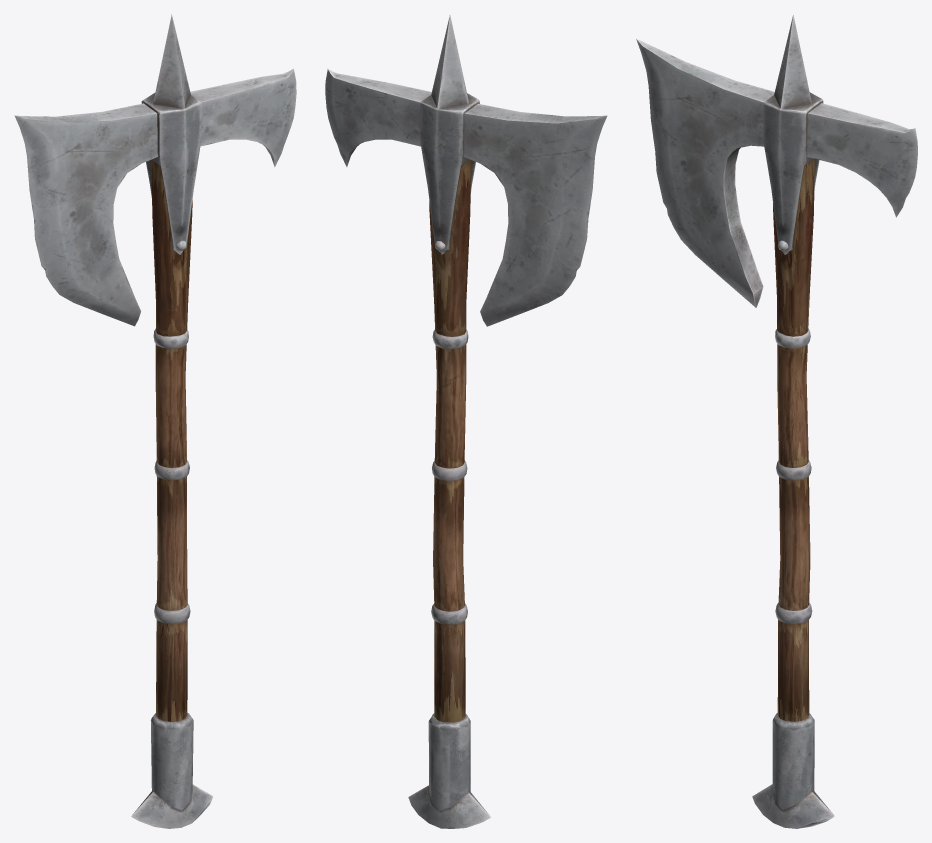
3 views of the same model, side by side, from view 1: azimuth 30°, elevation 25°; view 2: azimuth 150°, elevation 25°; view 3: azimuth 330°, elevation 25° (orthographic).
Parts seen in each view (by area): view 1: SM_Greataxe_Iron_2H_01_LOD0; view 2: SM_Greataxe_Iron_2H_01_LOD0; view 3: SM_Greataxe_Iron_2H_01_LOD0.
Part boxes in pixels (x1=…): SM_Greataxe_Iron_2H_01_LOD0: x1=14, y1=14, x2=296, y2=828; SM_Greataxe_Iron_2H_01_LOD0: x1=325, y1=14, x2=607, y2=828; SM_Greataxe_Iron_2H_01_LOD0: x1=636, y1=15, x2=917, y2=828.
Size of the model in its own units: 0.6067 by 1.66 by 0.1031.
1 material, 1 textured.
